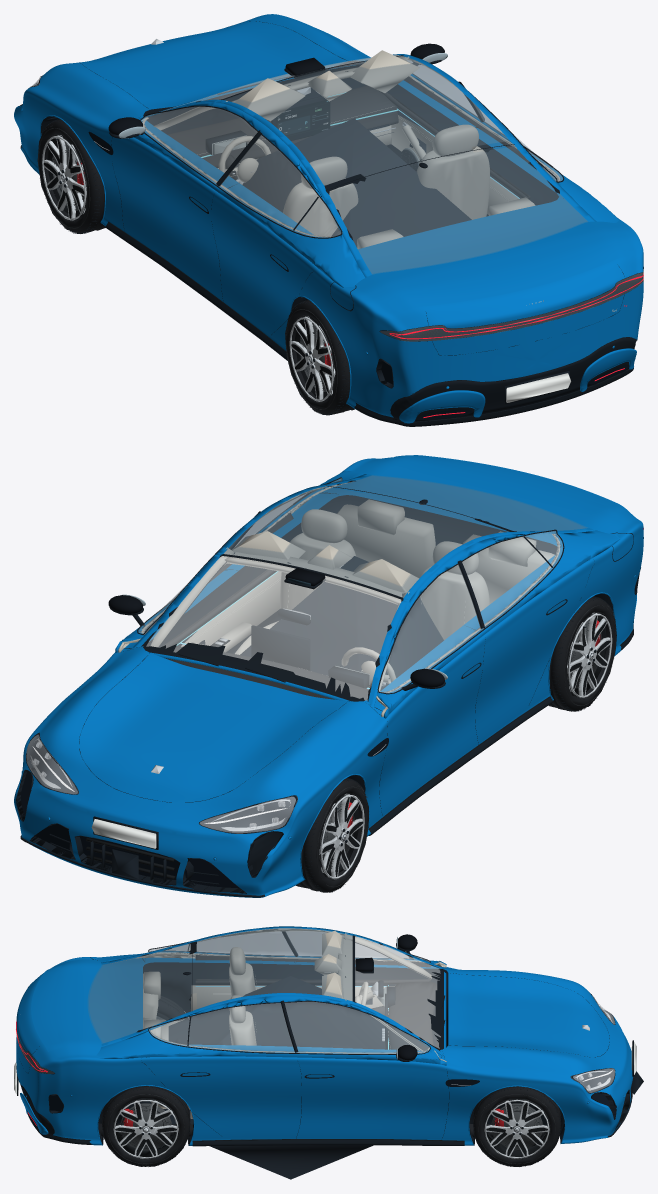
File: xiaomi-su7.low.glb
The picture shows the model from 3 angles, top to bottom: view 1: azimuth 30°, elevation 25°; view 2: azimuth 150°, elevation 25°; view 3: azimuth 270°, elevation 25°; orthographic projection. The views are drawn at different scales.
Parts seen in each view (by area): view 1: geometry:body, geometry:interior, geometry:wheel-front-left, geometry:wheel-rear-left, geometry:spoiler, geometry:display-center, geometry:steering; view 2: geometry:body, geometry:interior, geometry:wheel-rear-left, geometry:wheel-front-left, geometry:spoiler, geometry:steering; view 3: geometry:body, geometry:interior, geometry:wheel-rear-right, geometry:wheel-front-right, geometry:spoiler, geometry:wheel-rear-left.
Boxes of the visible parts, <box> form: geometry:body: <box>14,14,643,426</box>; geometry:interior: <box>142,50,559,248</box>; geometry:wheel-front-left: <box>37,119,105,233</box>; geometry:wheel-rear-left: <box>285,300,354,415</box>; geometry:spoiler: <box>394,242,628,310</box>; geometry:display-center: <box>275,100,330,140</box>; geometry:steering: <box>218,136,270,184</box>; geometry:body: <box>14,457,643,897</box>; geometry:interior: <box>118,481,560,716</box>; geometry:wheel-rear-left: <box>548,596,616,711</box>; geometry:wheel-front-left: <box>296,778,368,892</box>; geometry:spoiler: <box>395,455,628,511</box>; geometry:steering: <box>341,647,395,686</box>; geometry:body: <box>14,926,643,1146</box>; geometry:interior: <box>115,928,446,1179</box>; geometry:wheel-rear-right: <box>101,1086,190,1166</box>; geometry:wheel-front-right: <box>473,1086,561,1166</box>; geometry:spoiler: <box>31,965,62,1051</box>; geometry:wheel-rear-left: <box>156,996,187,1020</box>.
Size of the model in its own units: 2.34 by 2.03 by 5.09.
Materials: 33 (2 with a texture image).
